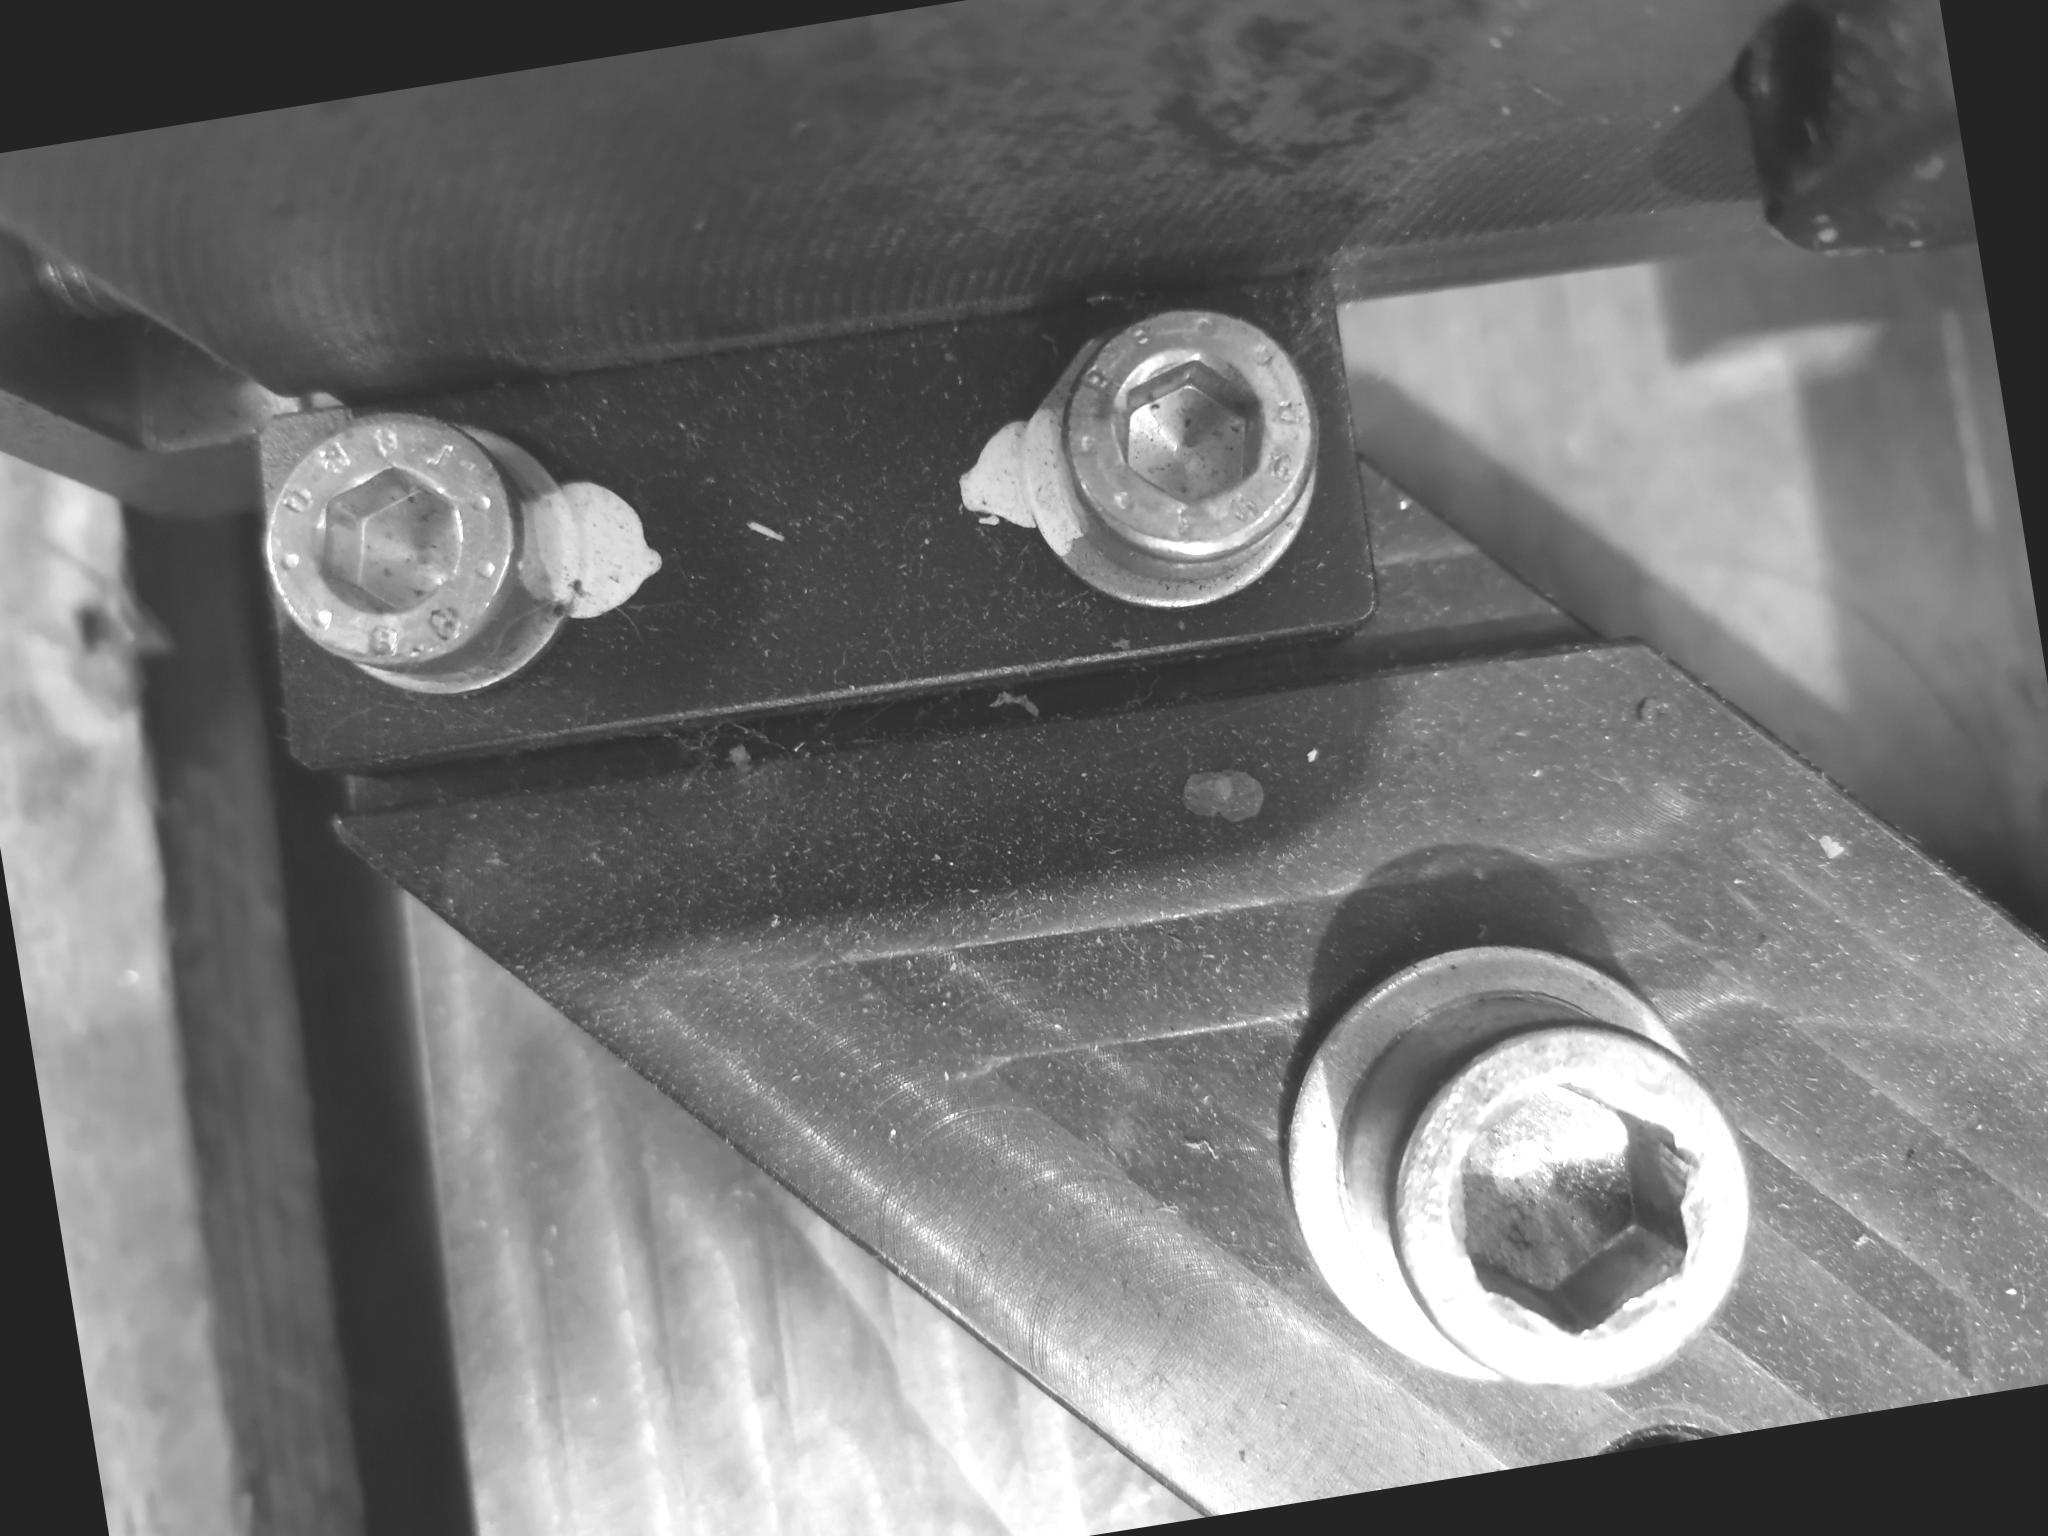screw: (1316, 945, 1793, 1447), (239, 386, 600, 742), (1008, 274, 1361, 637)
